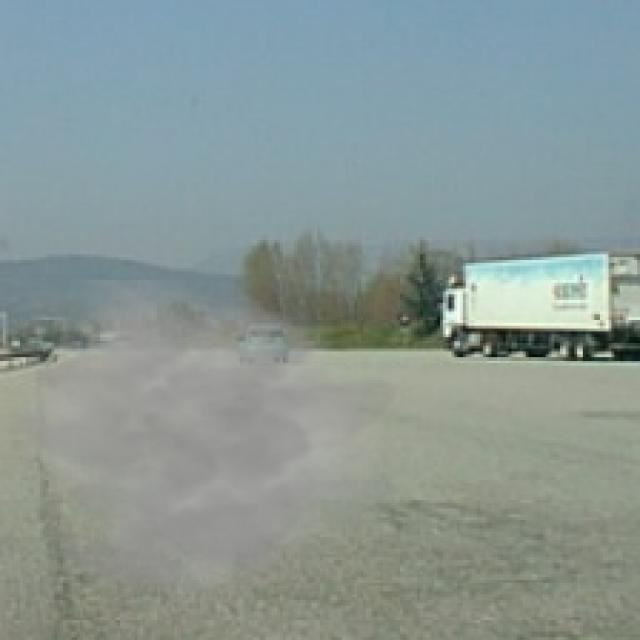smoke: (6, 280, 403, 626)
